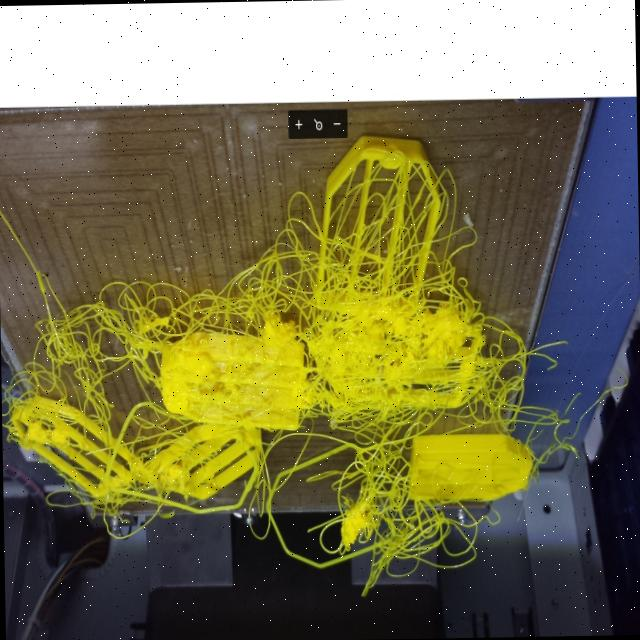spaghetti: (247, 200, 500, 431), (0, 284, 243, 404), (322, 420, 468, 592)
